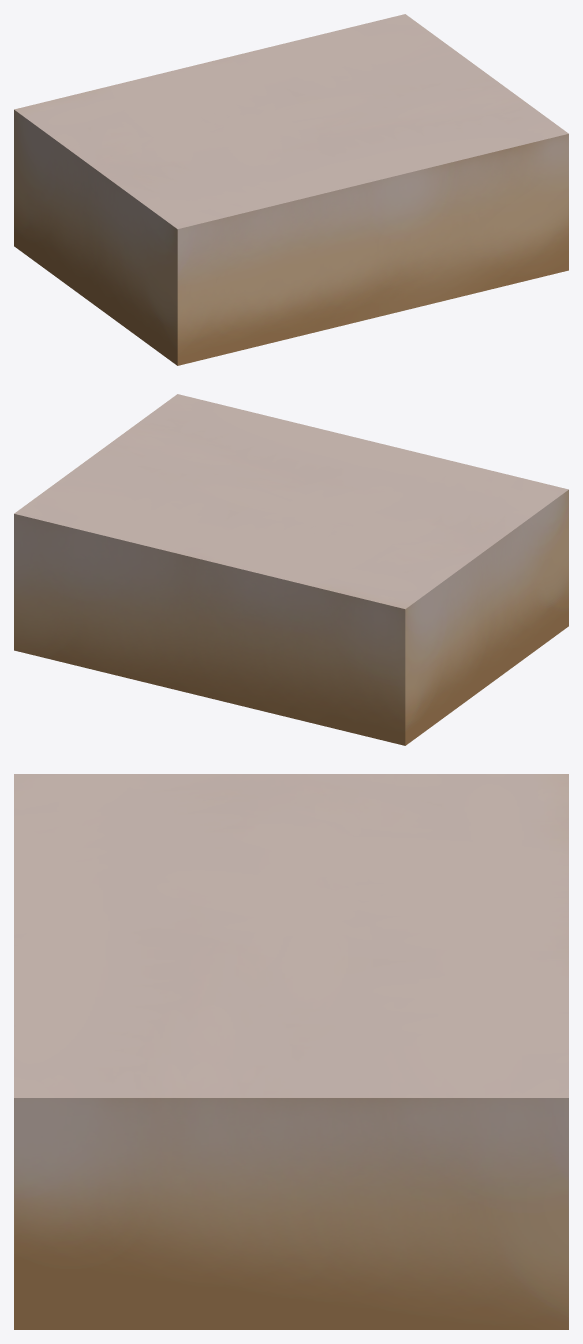
The model's file is Roof.fbx.
3 renders of one model, top to bottom at view 1: azimuth 30°, elevation 25°; view 2: azimuth 150°, elevation 25°; view 3: azimuth 270°, elevation 25°, orthographic. The views are drawn at different scales.
Parts seen in each view (by area): view 1: Roof; view 2: Roof; view 3: Roof.
Part boxes in pixels (bbox=[...]): Roof: bbox=[14, 14, 568, 365]; Roof: bbox=[14, 394, 568, 745]; Roof: bbox=[14, 774, 568, 1329].
Size of the model in its own units: 70.21 by 23.44 by 50.82.
1 material, 1 textured.
